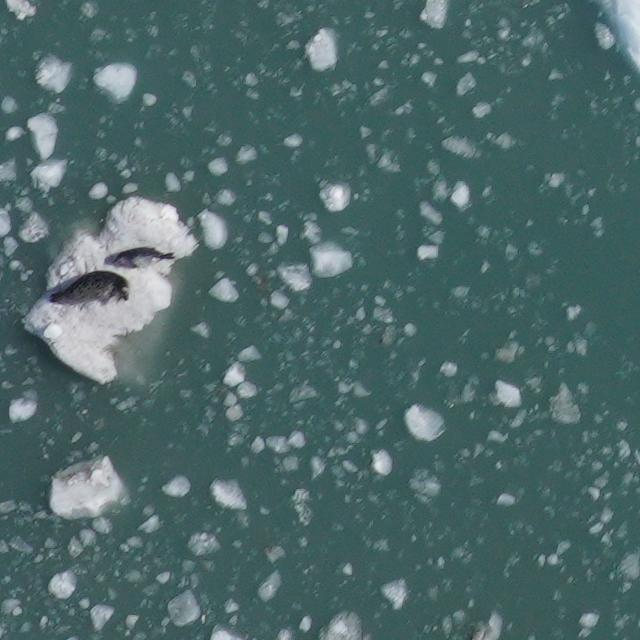seal: (46, 270, 130, 308), (110, 242, 179, 275)
